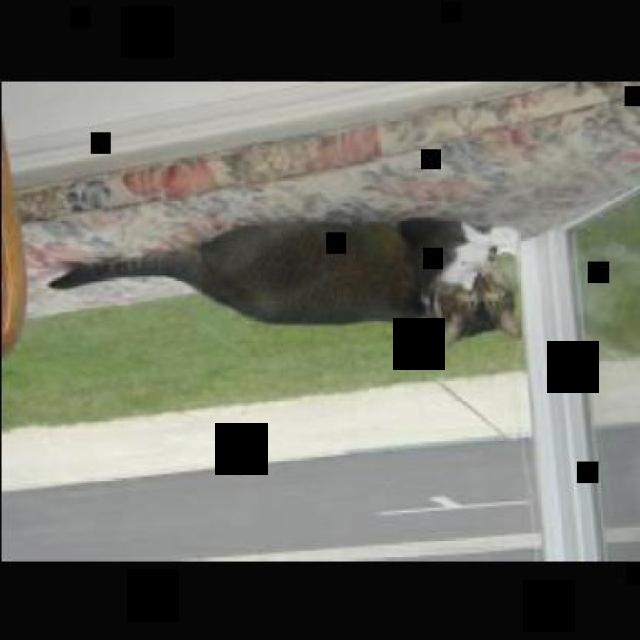unauthorized: (46, 212, 522, 346)
